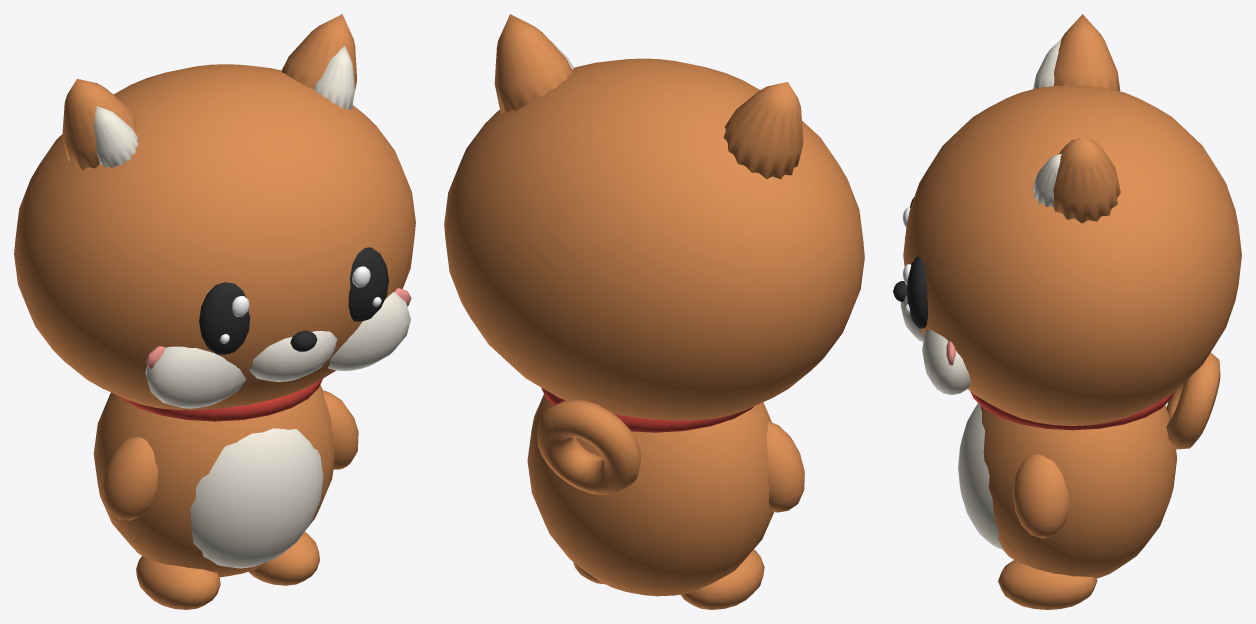
The model's file is dog.glb.
3 renders of one model, left to right at view 1: azimuth 30°, elevation 25°; view 2: azimuth 150°, elevation 25°; view 3: azimuth 270°, elevation 25°, orthographic. The views are drawn at different scales.
Visible parts, largest first — view 1: head, body, belly, cheek_l, arm_l, ear_l, cheek_r, foot_l, ear_r, muzzle, eye_l, collar (+5 smaller); view 2: head, body, tail, ear_l, ear_r, arm_l, foot_l, collar; view 3: head, body, ear_r, arm_r, ear_l, belly, foot_r, tail, cheek_r, collar, eye_r, ear_inner_r (+1 smaller).
Part boxes in pixels (bbox=[...]): head: bbox=[14, 64, 415, 409]; body: bbox=[93, 385, 334, 577]; belly: bbox=[190, 428, 323, 568]; cheek_l: bbox=[145, 346, 246, 408]; arm_l: bbox=[102, 437, 158, 520]; ear_l: bbox=[62, 78, 136, 169]; cheek_r: bbox=[328, 292, 410, 370]; foot_l: bbox=[136, 556, 220, 609]; ear_r: bbox=[281, 14, 356, 90]; muzzle: bbox=[249, 331, 337, 381]; eye_l: bbox=[199, 282, 250, 354]; collar: bbox=[120, 378, 322, 421]; head: bbox=[444, 58, 864, 420]; body: bbox=[527, 394, 773, 596]; tail: bbox=[537, 399, 640, 495]; ear_l: bbox=[724, 82, 803, 179]; ear_r: bbox=[494, 14, 572, 114]; arm_l: bbox=[766, 421, 804, 512]; foot_l: bbox=[680, 549, 764, 609]; collar: bbox=[541, 388, 754, 432]; head: bbox=[903, 85, 1241, 425]; body: bbox=[980, 405, 1177, 578]; ear_r: bbox=[1053, 137, 1120, 223]; arm_r: bbox=[1013, 454, 1069, 538]; ear_l: bbox=[1054, 14, 1120, 91]; belly: bbox=[958, 403, 1002, 549]; foot_r: bbox=[998, 560, 1097, 609]; tail: bbox=[1166, 352, 1220, 449]; cheek_r: bbox=[922, 329, 971, 394]; collar: bbox=[970, 391, 1174, 430]; eye_r: bbox=[906, 256, 928, 328]; ear_inner_r: bbox=[1032, 154, 1061, 206].
Size of the model in its own units: 0.8 by 1.12 by 0.7006.
